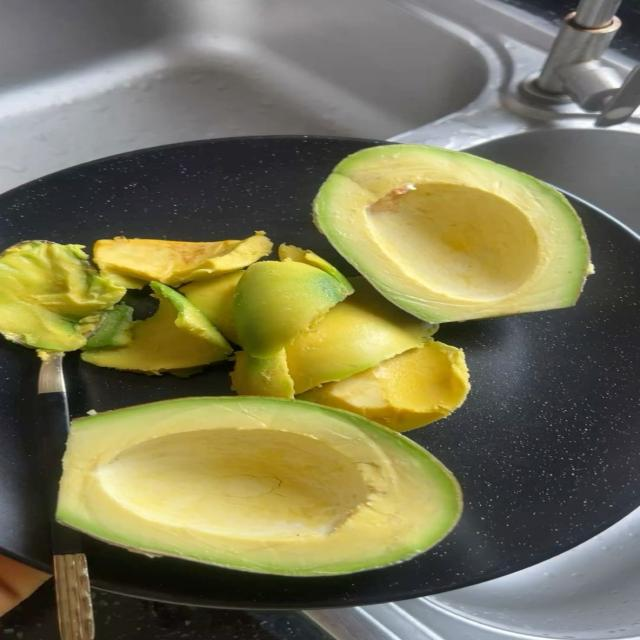avocado: (57, 397, 461, 575), (314, 145, 589, 322), (286, 277, 437, 393), (300, 340, 469, 431), (0, 241, 125, 351), (82, 283, 232, 374), (234, 260, 350, 357), (94, 232, 272, 288), (180, 271, 243, 343), (279, 244, 353, 294), (231, 349, 294, 399), (85, 303, 133, 349)
